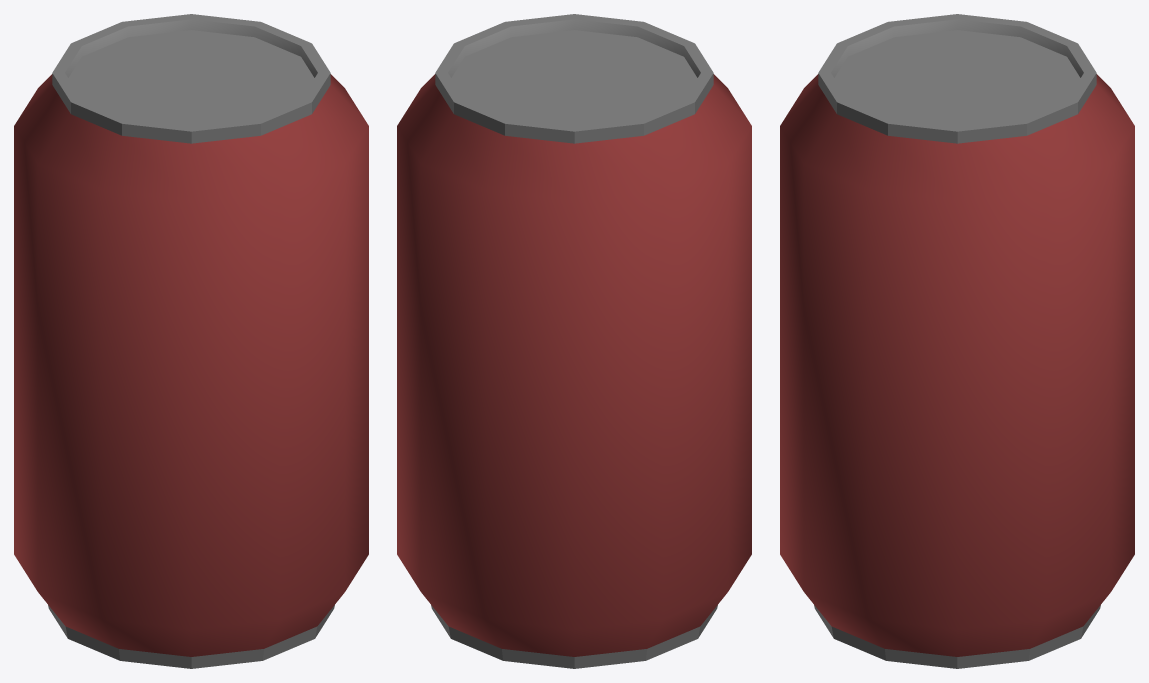
Rendered from Canette.fbx.
3 renders of one model, left to right at view 1: azimuth 30°, elevation 25°; view 2: azimuth 150°, elevation 25°; view 3: azimuth 270°, elevation 25°, orthographic.
Visible parts, largest first — view 1: Canette; view 2: Canette; view 3: Canette.
Boxes of the visible parts, <box> form: Canette: <box>14,14,368,668</box>; Canette: <box>397,14,751,668</box>; Canette: <box>780,14,1134,668</box>.
Bounding box in the file's own units: 6.6 × 11 × 6.6.
